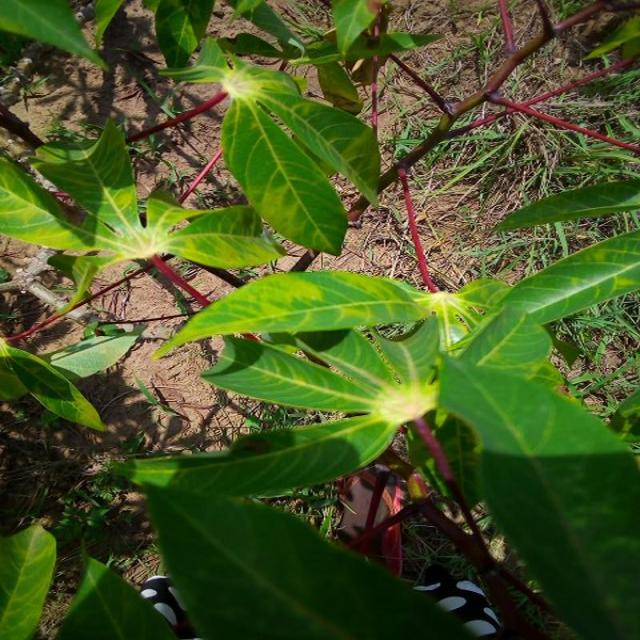cassava leaf: (152, 268, 434, 359)
